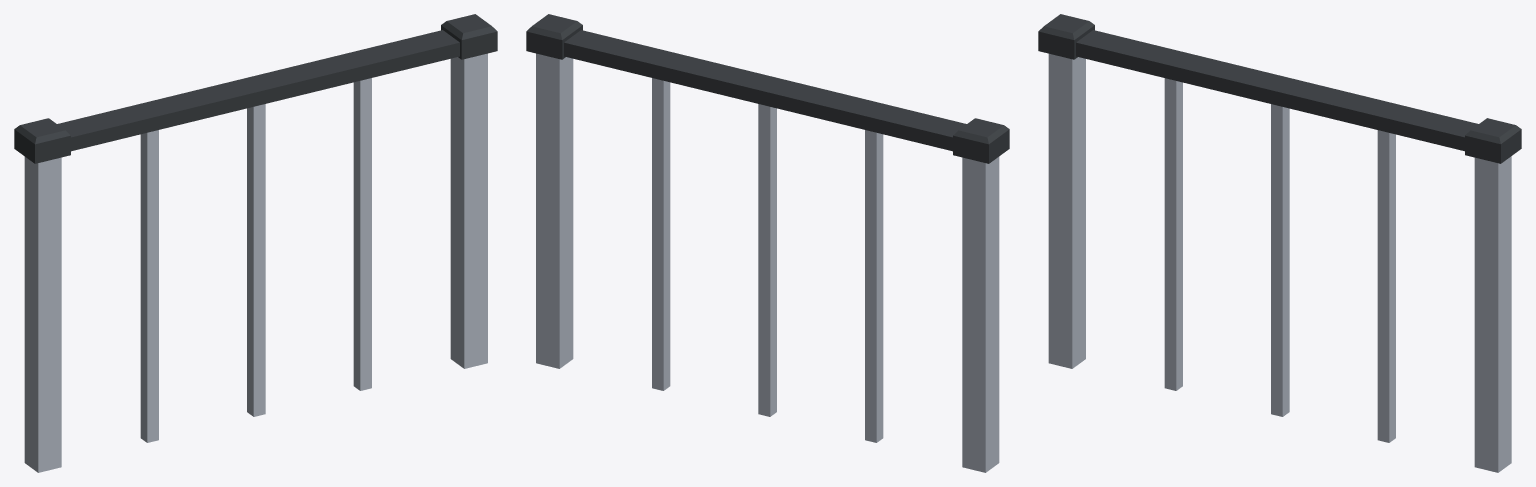
The model's file is StairsPart3_C2.fbx.
3 views of the same model, side by side, from view 1: azimuth 30°, elevation 25°; view 2: azimuth 150°, elevation 25°; view 3: azimuth 330°, elevation 25° (orthographic).
Parts seen in each view (by area): view 1: StairsPart3_C2; view 2: StairsPart3_C2; view 3: StairsPart3_C2.
Boxes of the visible parts, x1,y1,x2,y2 form: StairsPart3_C2: (14, 14, 497, 472); StairsPart3_C2: (526, 14, 1009, 472); StairsPart3_C2: (1038, 14, 1521, 472).
Bounding box in the file's own units: 142 × 98.99 × 11.02.
